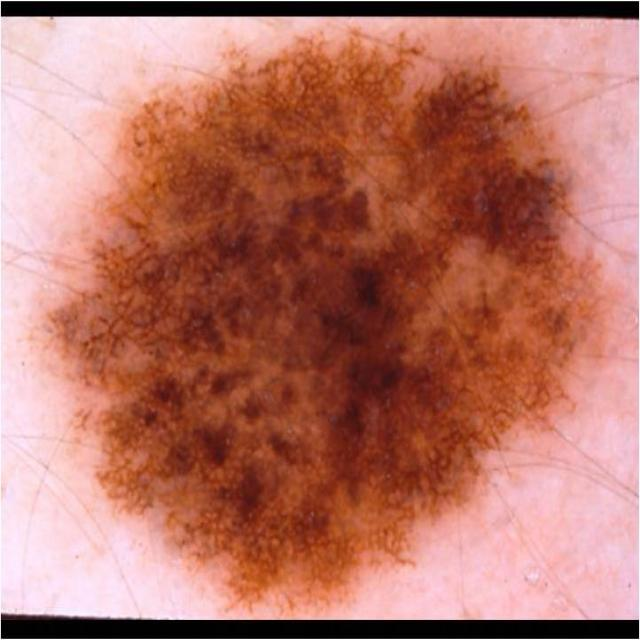Benign: (46, 31, 602, 608)
